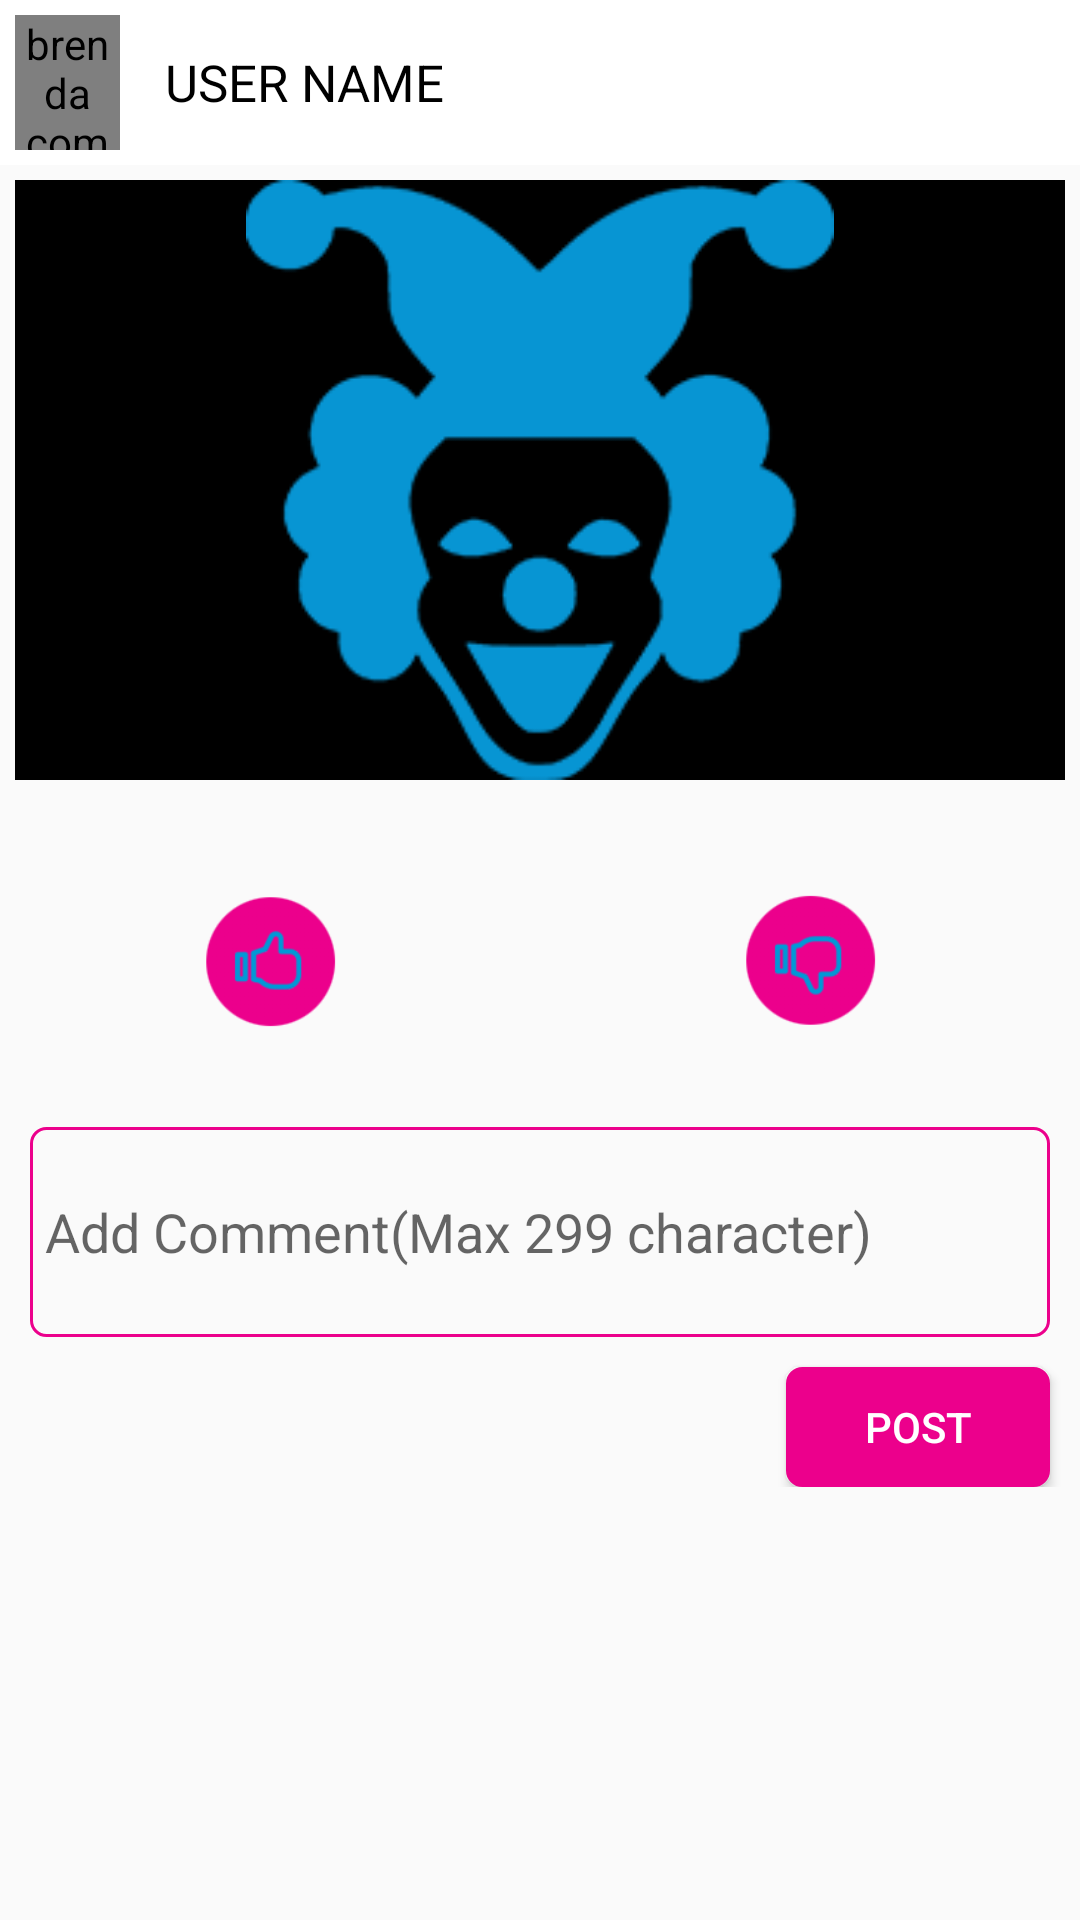

Where to tap for icons on this 1080×1920 app screen, as (x=x, y=y):
thumb down: (x=811, y=960)
thumbs up: (x=271, y=962)
